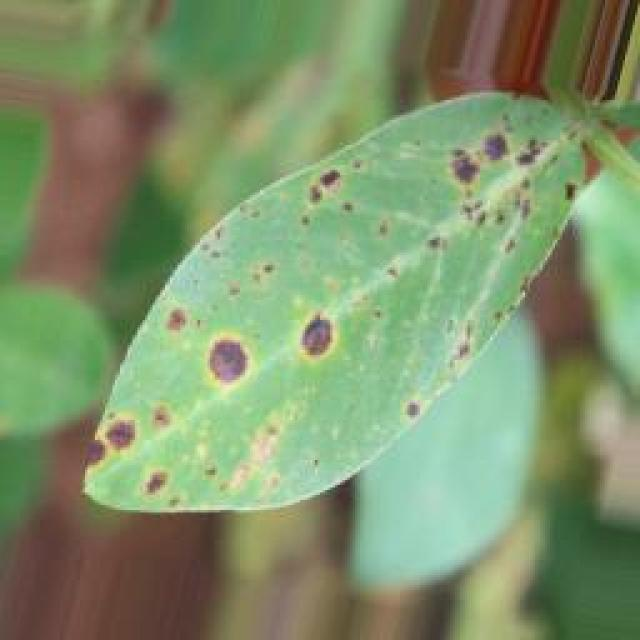Yellowish: (37, 27, 640, 587)
